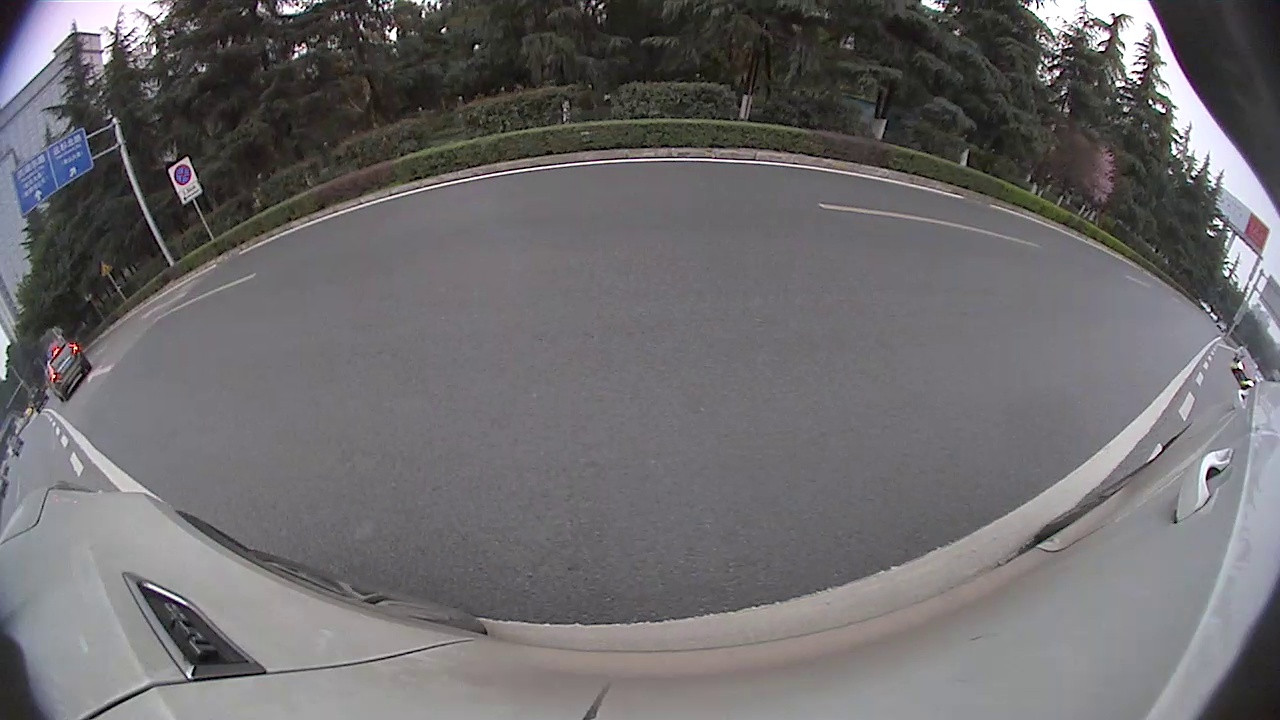bus: (752, 0, 1279, 432)
car: (1, 158, 358, 499), (551, 102, 784, 261), (409, 155, 533, 230)
front: (251, 242, 349, 362)
rear: (933, 218, 1015, 314), (491, 190, 505, 218)
